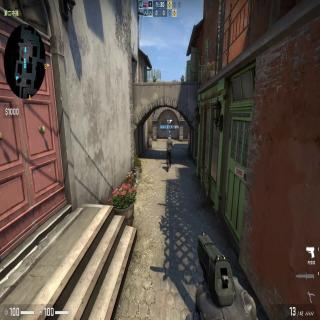CT-Body: (166, 134, 174, 172)
